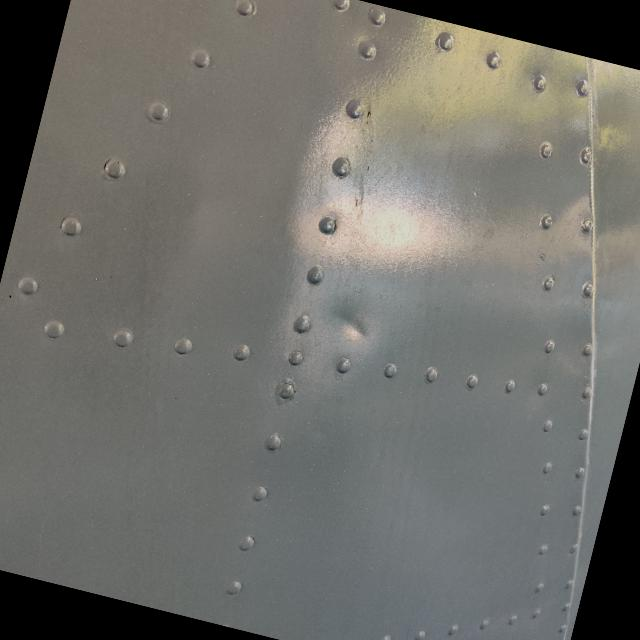dent: (300, 281, 402, 385)
